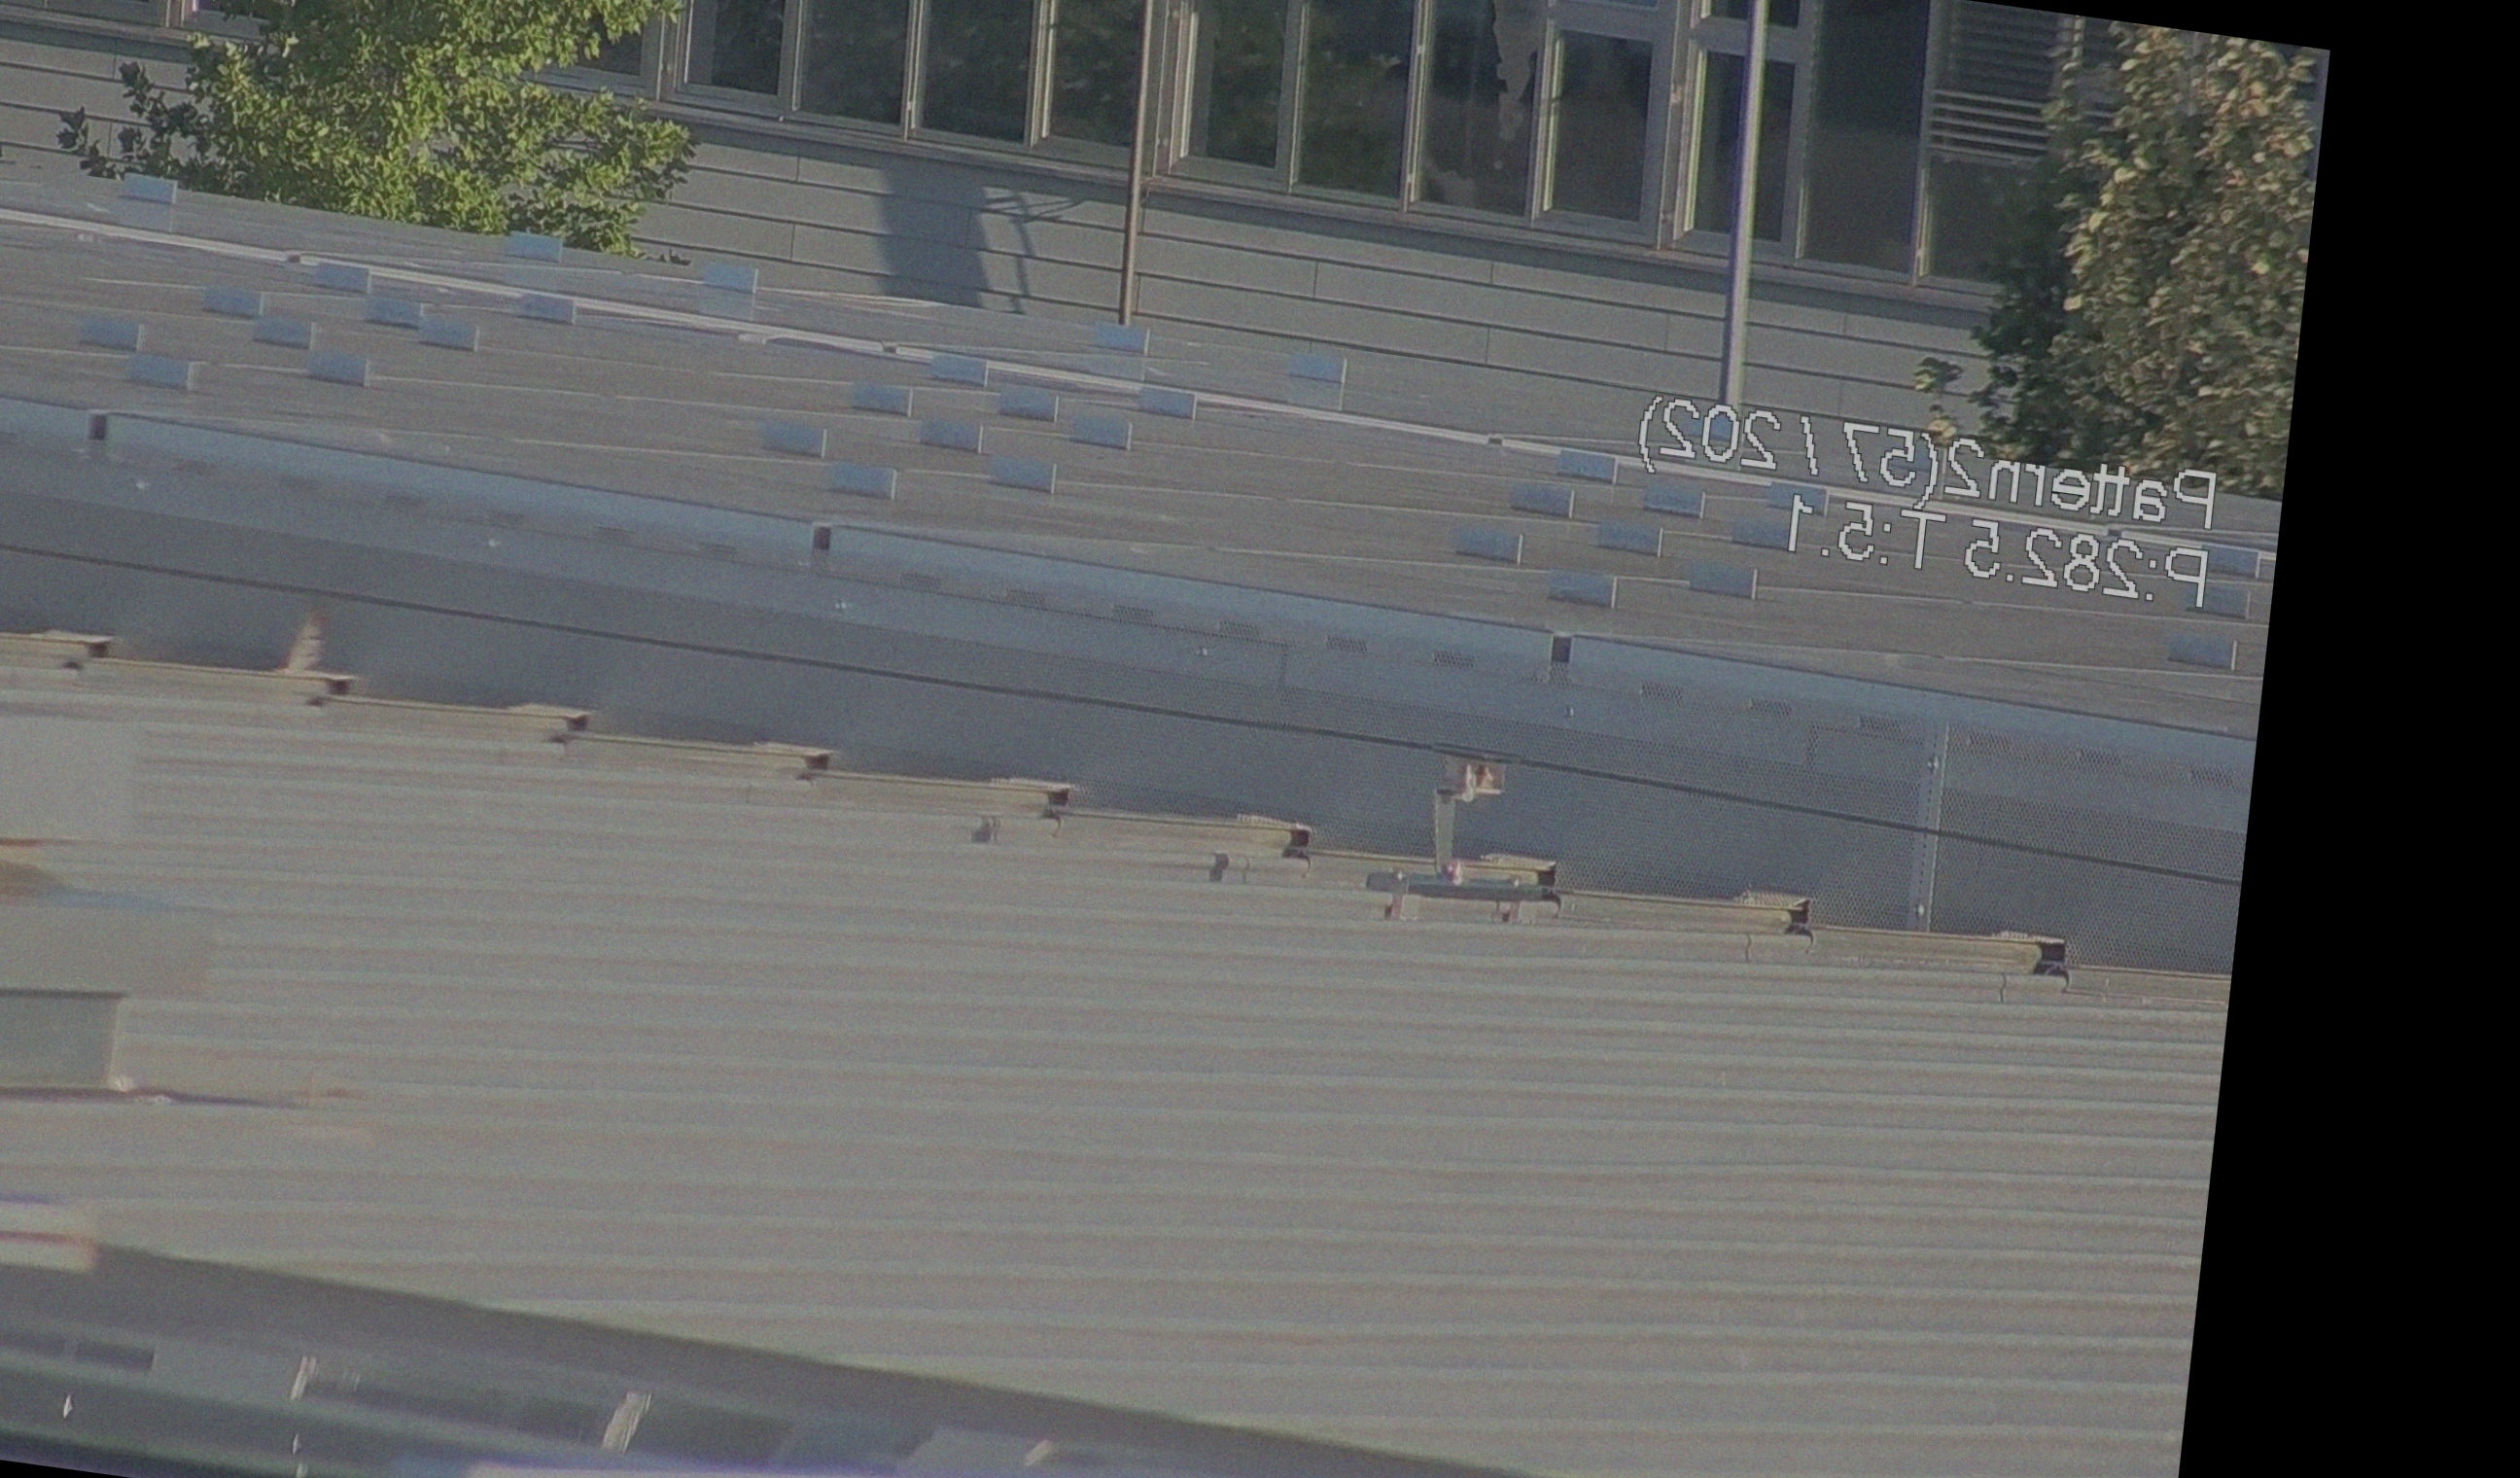Other: (255, 577, 357, 721)
